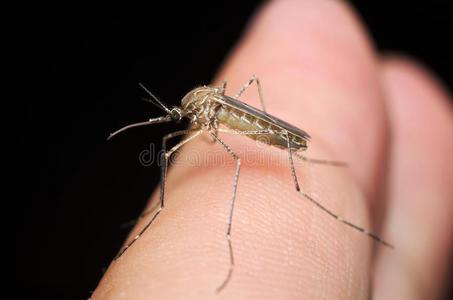Cecidomyiidae: (107, 72, 396, 288)
